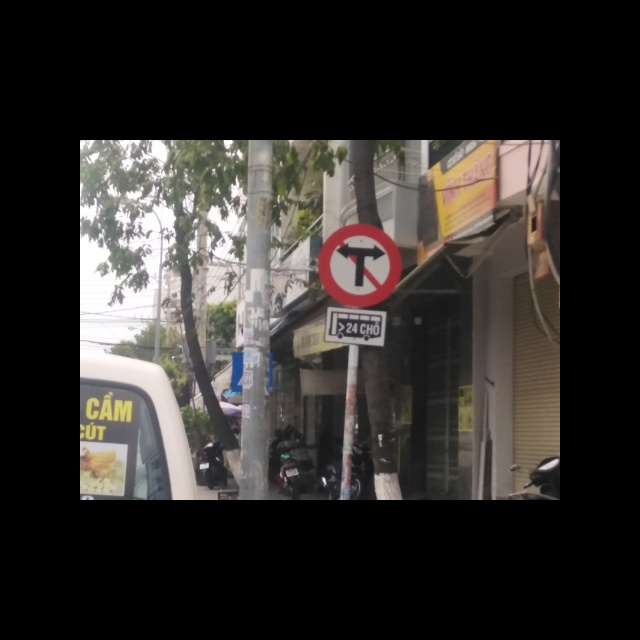Cấm rẽ trái và rẽ phải: (316, 222, 401, 307)
